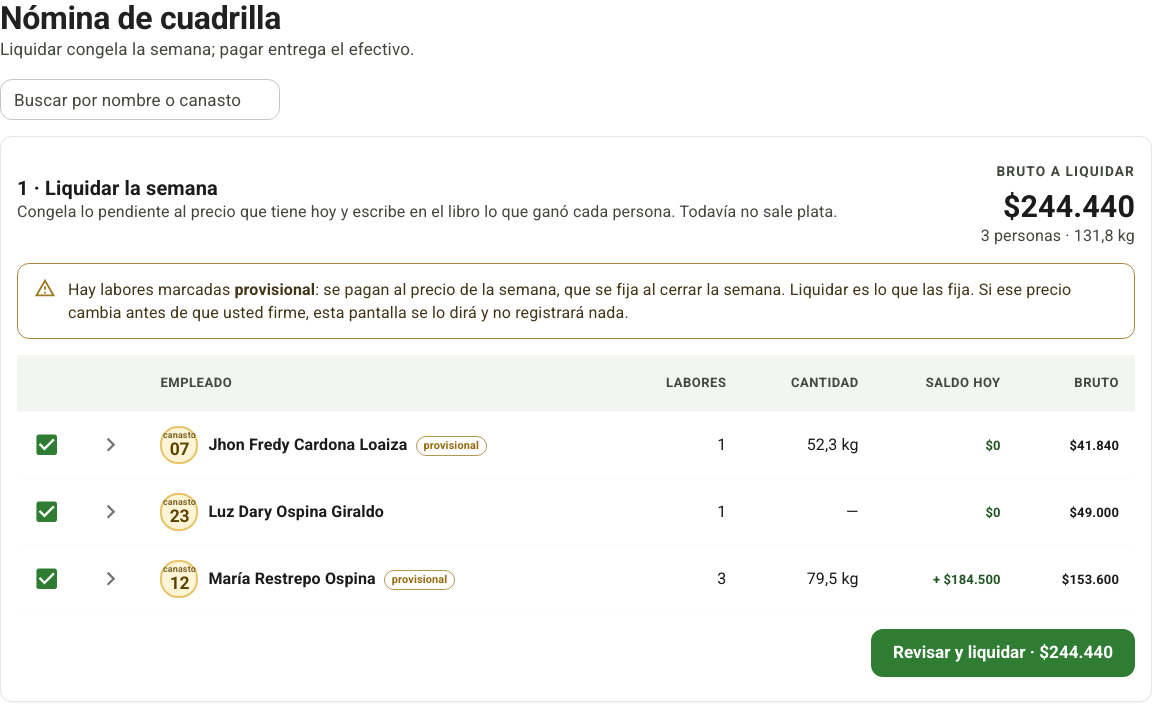
a labor that is not paid by weight › shows a dash instead of a quantity in the confirmation
This screenshot has width=1152, height=720.
expect the heading "1 · Liquidar la semana" is shown: met, box [17,176,218,200]
What coordinates should you click on to do the following:
click the button "Revisar y liquidar · $244.440"
I would click on:
 (1003, 653)
Its box is [871,629,1135,677].
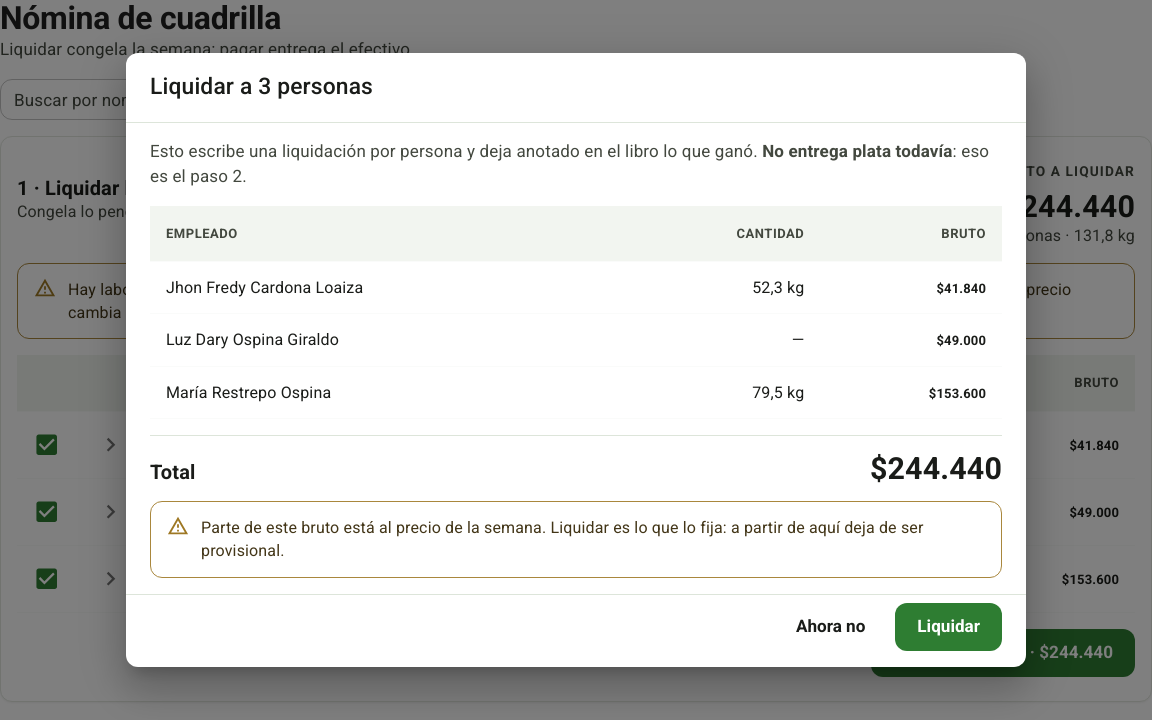
expect the dialog is shown: met
expect the text "—" is shown: met, box [617,314,820,366]
